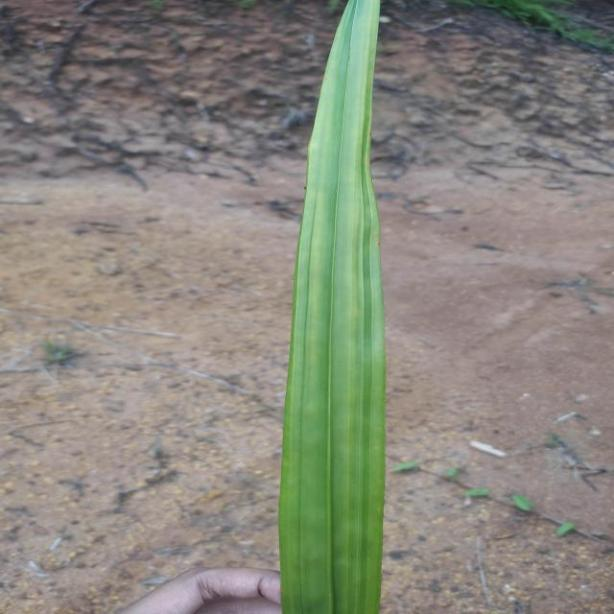nitrogen: (276, 0, 384, 614)
